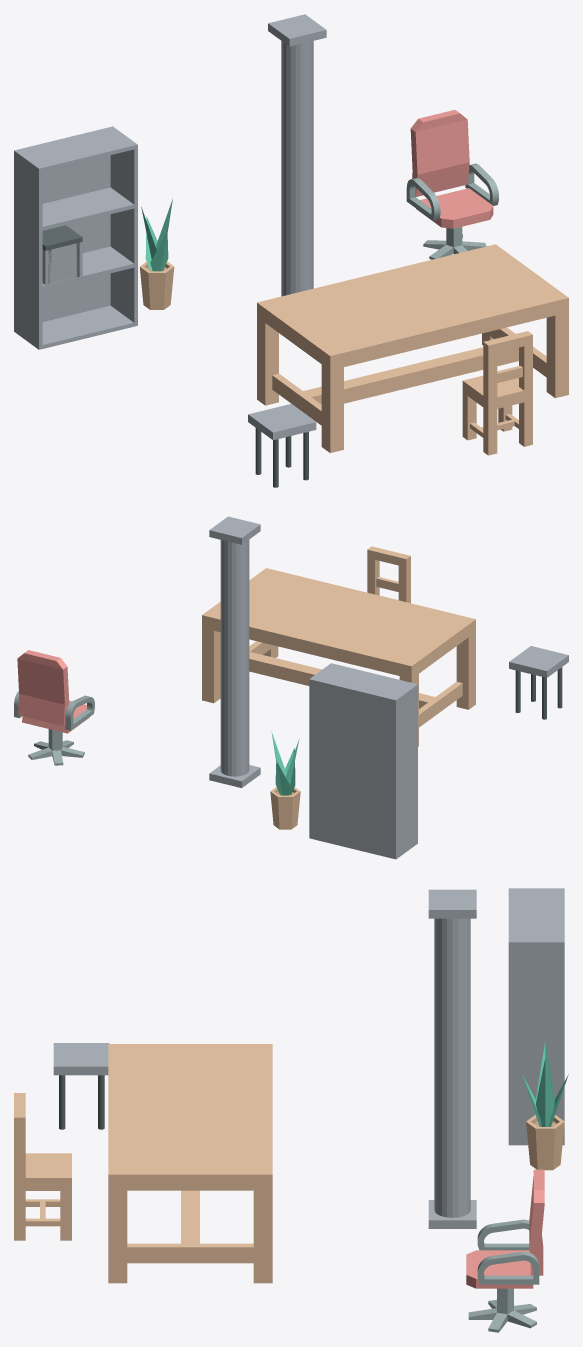
3 renders of one model, top to bottom at view 1: azimuth 30°, elevation 25°; view 2: azimuth 150°, elevation 25°; view 3: azimuth 270°, elevation 25°, orthographic. The views are drawn at different scales.
Visible parts, largest first — view 1: table_green__table(Clone), column_cyan__column_cyan shaft, deskchair_black__chair, chair_cyan__chair(Clone), shelf_orange__shelf_orange back, shelf_orange__shelf_orange side_l, shelf_orange__shelf_orange side_r, shelf_orange__shelf_orange board3, shelf_orange__shelf_orange board0, shelf_orange__shelf_orange board2, stool_purple__stool_purple seat, shelf_orange__shelf_orange board1 (+6 smaller); view 2: table_green__table(Clone), shelf_orange__shelf_orange back, column_cyan__column_cyan shaft, deskchair_black__chair, shelf_orange__shelf_orange side_l, shelf_orange__shelf_orange board3, chair_cyan__chair(Clone), stool_purple__stool_purple seat, plant_pink__pottedPlant(Clone), column_cyan__column_cyan capital, deskchair_black__chairDesk(Clone), plant_pink__plant (+2 smaller); view 3: table_green__table(Clone), column_cyan__column_cyan shaft, shelf_orange__shelf_orange side_r, deskchair_black__chair, chair_cyan__chair(Clone), shelf_orange__shelf_orange board3, stool_purple__stool_purple seat, plant_pink__pottedPlant(Clone), deskchair_black__chairDesk(Clone), column_cyan__column_cyan capital, plant_pink__plant, column_cyan__column_cyan plinth.
Boxes of the visible parts, bbox=[...] form: table_green__table(Clone): bbox=[257, 244, 568, 452]; column_cyan__column_cyan shaft: bbox=[281, 41, 313, 296]; deskchair_black__chair: bbox=[406, 110, 498, 228]; chair_cyan__chair(Clone): bbox=[462, 331, 532, 455]; shelf_orange__shelf_orange back: bbox=[18, 127, 110, 321]; shelf_orange__shelf_orange side_l: bbox=[14, 149, 42, 349]; shelf_orange__shelf_orange side_r: bbox=[109, 126, 137, 326]; shelf_orange__shelf_orange board3: bbox=[19, 128, 134, 171]; shelf_orange__shelf_orange board0: bbox=[42, 305, 134, 348]; shelf_orange__shelf_orange board2: bbox=[42, 187, 134, 230]; stool_purple__stool_purple seat: bbox=[248, 404, 316, 440]; shelf_orange__shelf_orange board1: bbox=[42, 246, 134, 289]; table_green__table(Clone): bbox=[202, 568, 475, 746]; shelf_orange__shelf_orange back: bbox=[312, 679, 393, 858]; column_cyan__column_cyan shaft: bbox=[220, 540, 249, 776]; deskchair_black__chair: bbox=[14, 650, 94, 733]; shelf_orange__shelf_orange side_l: bbox=[393, 683, 417, 859]; shelf_orange__shelf_orange board3: bbox=[314, 664, 414, 698]; chair_cyan__chair(Clone): bbox=[367, 546, 410, 603]; stool_purple__stool_purple seat: bbox=[509, 646, 568, 677]; plant_pink__pottedPlant(Clone): bbox=[270, 787, 300, 829]; column_cyan__column_cyan capital: bbox=[209, 516, 260, 544]; deskchair_black__chairDesk(Clone): bbox=[28, 729, 84, 765]; plant_pink__plant: bbox=[271, 732, 299, 795]; table_green__table(Clone): bbox=[108, 1044, 272, 1283]; column_cyan__column_cyan shaft: bbox=[434, 918, 470, 1217]; shelf_orange__shelf_orange side_r: bbox=[508, 940, 564, 1145]; deskchair_black__chair: bbox=[466, 1169, 544, 1288]; chair_cyan__chair(Clone): bbox=[14, 1093, 71, 1240]; shelf_orange__shelf_orange board3: bbox=[508, 890, 561, 940]; stool_purple__stool_purple seat: bbox=[53, 1043, 109, 1075]; plant_pink__pottedPlant(Clone): bbox=[526, 1115, 564, 1170]; deskchair_black__chairDesk(Clone): bbox=[468, 1288, 536, 1332]; column_cyan__column_cyan capital: bbox=[428, 889, 476, 918]; plant_pink__plant: bbox=[522, 1041, 568, 1126]; column_cyan__column_cyan plinth: bbox=[428, 1200, 476, 1228].
Size of the model in its own units: 3.61 by 2.2 by 3.47.
